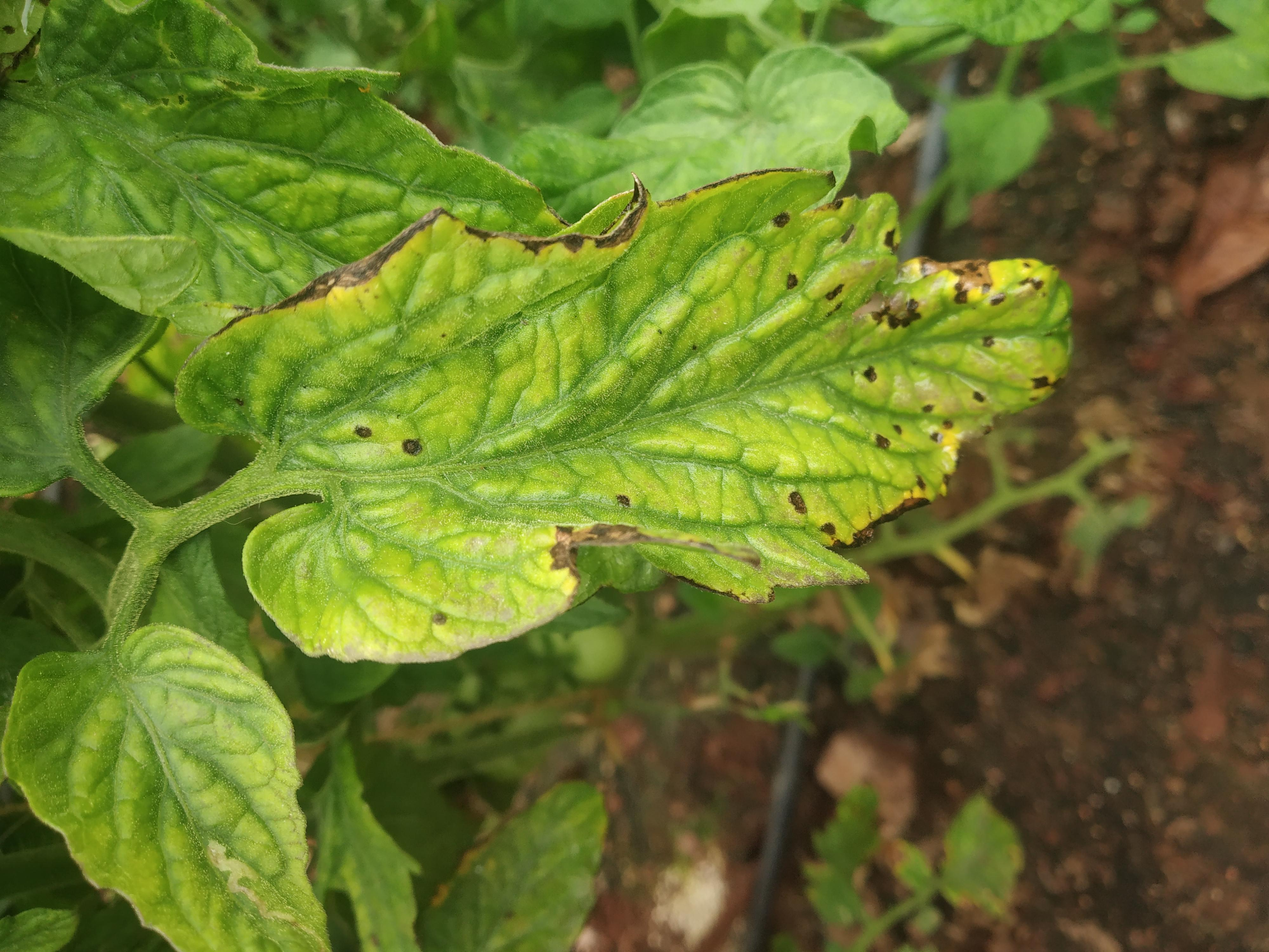Early Blight: (376, 125, 1051, 821)
